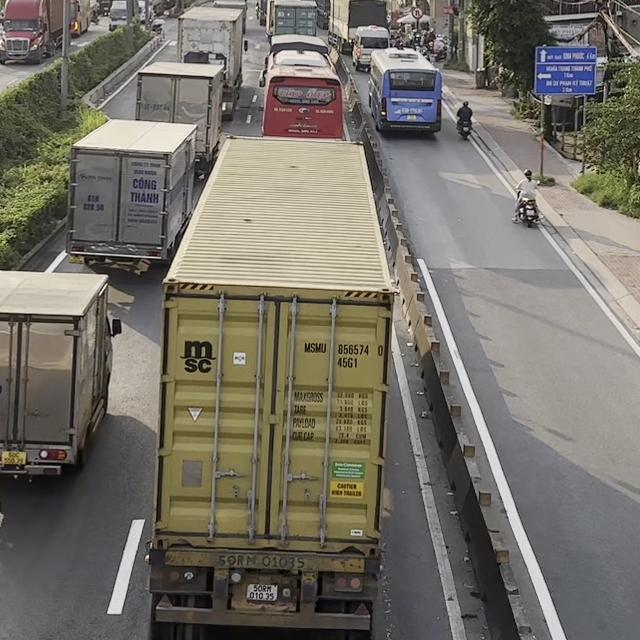bus: (259, 51, 344, 139), (367, 47, 443, 133)
car: (351, 24, 390, 72)
motorcycle: (515, 180, 543, 228), (456, 117, 472, 140)
truck: (144, 134, 397, 639), (0, 268, 121, 481), (64, 117, 197, 275), (134, 61, 227, 172), (176, 6, 248, 120), (0, 0, 63, 64), (327, 0, 389, 54), (273, 0, 317, 36)
